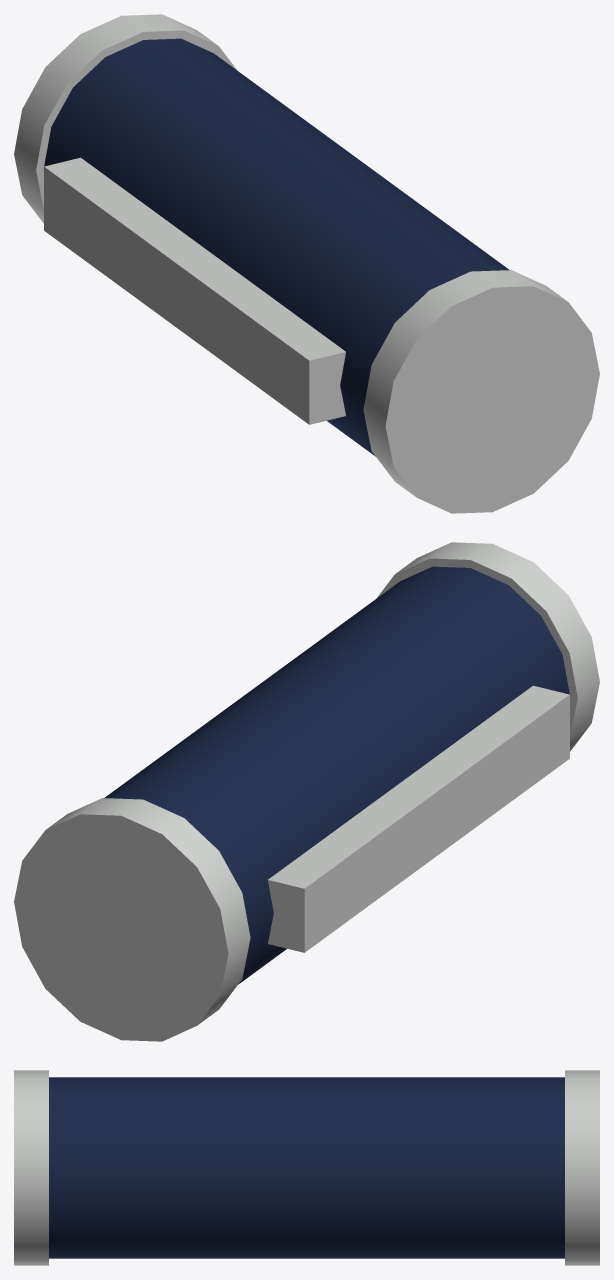
File: s200_starter.obj
3 views of the same model, one above another, from view 1: azimuth 30°, elevation 25°; view 2: azimuth 150°, elevation 25°; view 3: azimuth 270°, elevation 25° (orthographic). The views are drawn at different scales.
Parts seen in each view (by area): view 1: s200_starter; view 2: s200_starter; view 3: s200_starter.
Boxes of the visible parts, left/top/right/bottom form: s200_starter: left=14, top=14, right=599, bottom=513; s200_starter: left=14, top=542, right=599, bottom=1041; s200_starter: left=14, top=1070, right=599, bottom=1265.
Bounding box in the file's own units: 0.31 × 0.28 × 0.84.
